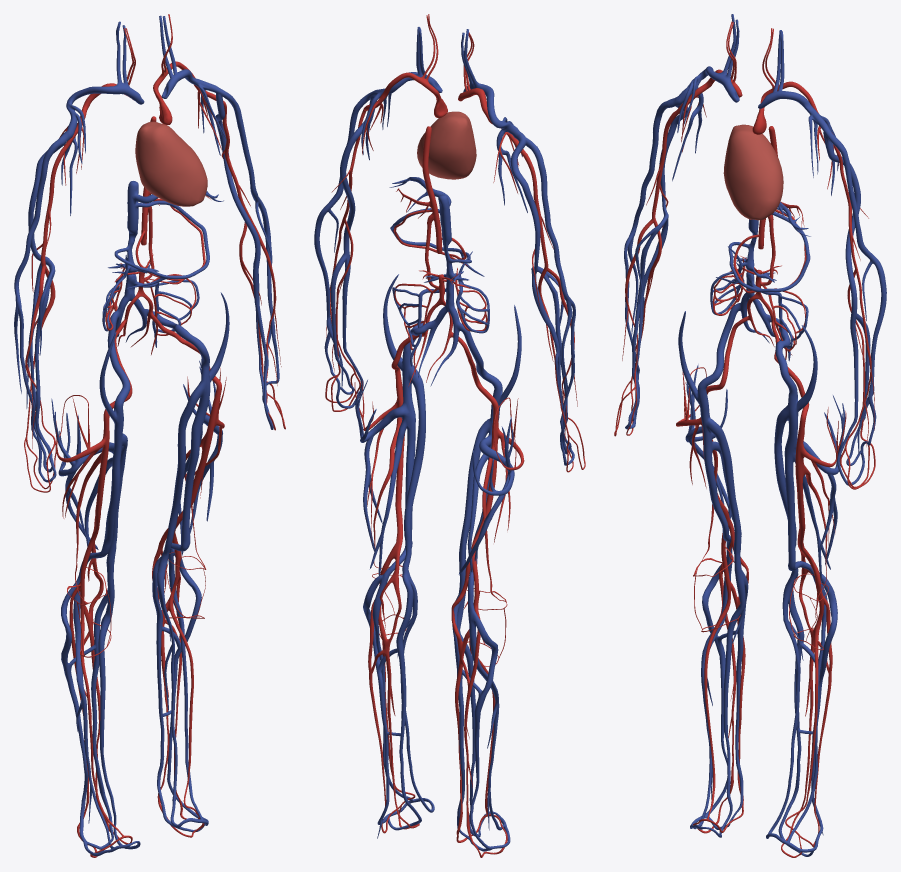
Rendered from pediatric_adolescent_male.cardiovascular.LOD0.glb.
3 renders of one model, left to right at view 1: azimuth 30°, elevation 25°; view 2: azimuth 150°, elevation 25°; view 3: azimuth 330°, elevation 25°, orthographic.
Parts seen in each view (by area): view 1: PEDIATRIC.ADOLESCENT.MALE.CARDIOVASCULAR.BLOOD_IN_LARGE_VEIN, PEDIATRIC.ADOLESCENT.MALE.CARDIOVASCULAR.BLOOD_IN_LARGE_ARTE, PEDIATRIC.ADOLESCENT.MALE.CARDIOVASCULAR.HEART_WALL; view 2: PEDIATRIC.ADOLESCENT.MALE.CARDIOVASCULAR.BLOOD_IN_LARGE_VEIN, PEDIATRIC.ADOLESCENT.MALE.CARDIOVASCULAR.BLOOD_IN_LARGE_ARTE, PEDIATRIC.ADOLESCENT.MALE.CARDIOVASCULAR.HEART_WALL; view 3: PEDIATRIC.ADOLESCENT.MALE.CARDIOVASCULAR.BLOOD_IN_LARGE_VEIN, PEDIATRIC.ADOLESCENT.MALE.CARDIOVASCULAR.BLOOD_IN_LARGE_ARTE, PEDIATRIC.ADOLESCENT.MALE.CARDIOVASCULAR.HEART_WALL.
Boxes of the visible parts, box(x1,y1,x2,y2) form: PEDIATRIC.ADOLESCENT.MALE.CARDIOVASCULAR.BLOOD_IN_LARGE_VEIN: box(14, 15, 279, 856); PEDIATRIC.ADOLESCENT.MALE.CARDIOVASCULAR.BLOOD_IN_LARGE_ARTE: box(24, 14, 285, 857); PEDIATRIC.ADOLESCENT.MALE.CARDIOVASCULAR.HEART_WALL: box(135, 121, 207, 206); PEDIATRIC.ADOLESCENT.MALE.CARDIOVASCULAR.BLOOD_IN_LARGE_VEIN: box(314, 27, 575, 851); PEDIATRIC.ADOLESCENT.MALE.CARDIOVASCULAR.BLOOD_IN_LARGE_ARTE: box(325, 14, 585, 857); PEDIATRIC.ADOLESCENT.MALE.CARDIOVASCULAR.HEART_WALL: box(417, 111, 476, 179); PEDIATRIC.ADOLESCENT.MALE.CARDIOVASCULAR.BLOOD_IN_LARGE_VEIN: box(624, 14, 886, 856); PEDIATRIC.ADOLESCENT.MALE.CARDIOVASCULAR.BLOOD_IN_LARGE_ARTE: box(614, 21, 875, 857); PEDIATRIC.ADOLESCENT.MALE.CARDIOVASCULAR.HEART_WALL: box(723, 124, 783, 220).
Size of the model in its own units: 0.4889 by 1.5 by 0.1774.
